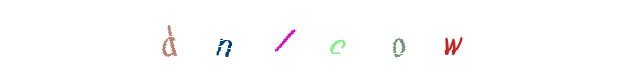C: (280, 0, 360, 80)
D: (184, 0, 264, 80)
L: (245, 0, 325, 80)
N: (189, 0, 269, 80)
O: (315, 0, 395, 80)
W: (412, 0, 492, 80)
